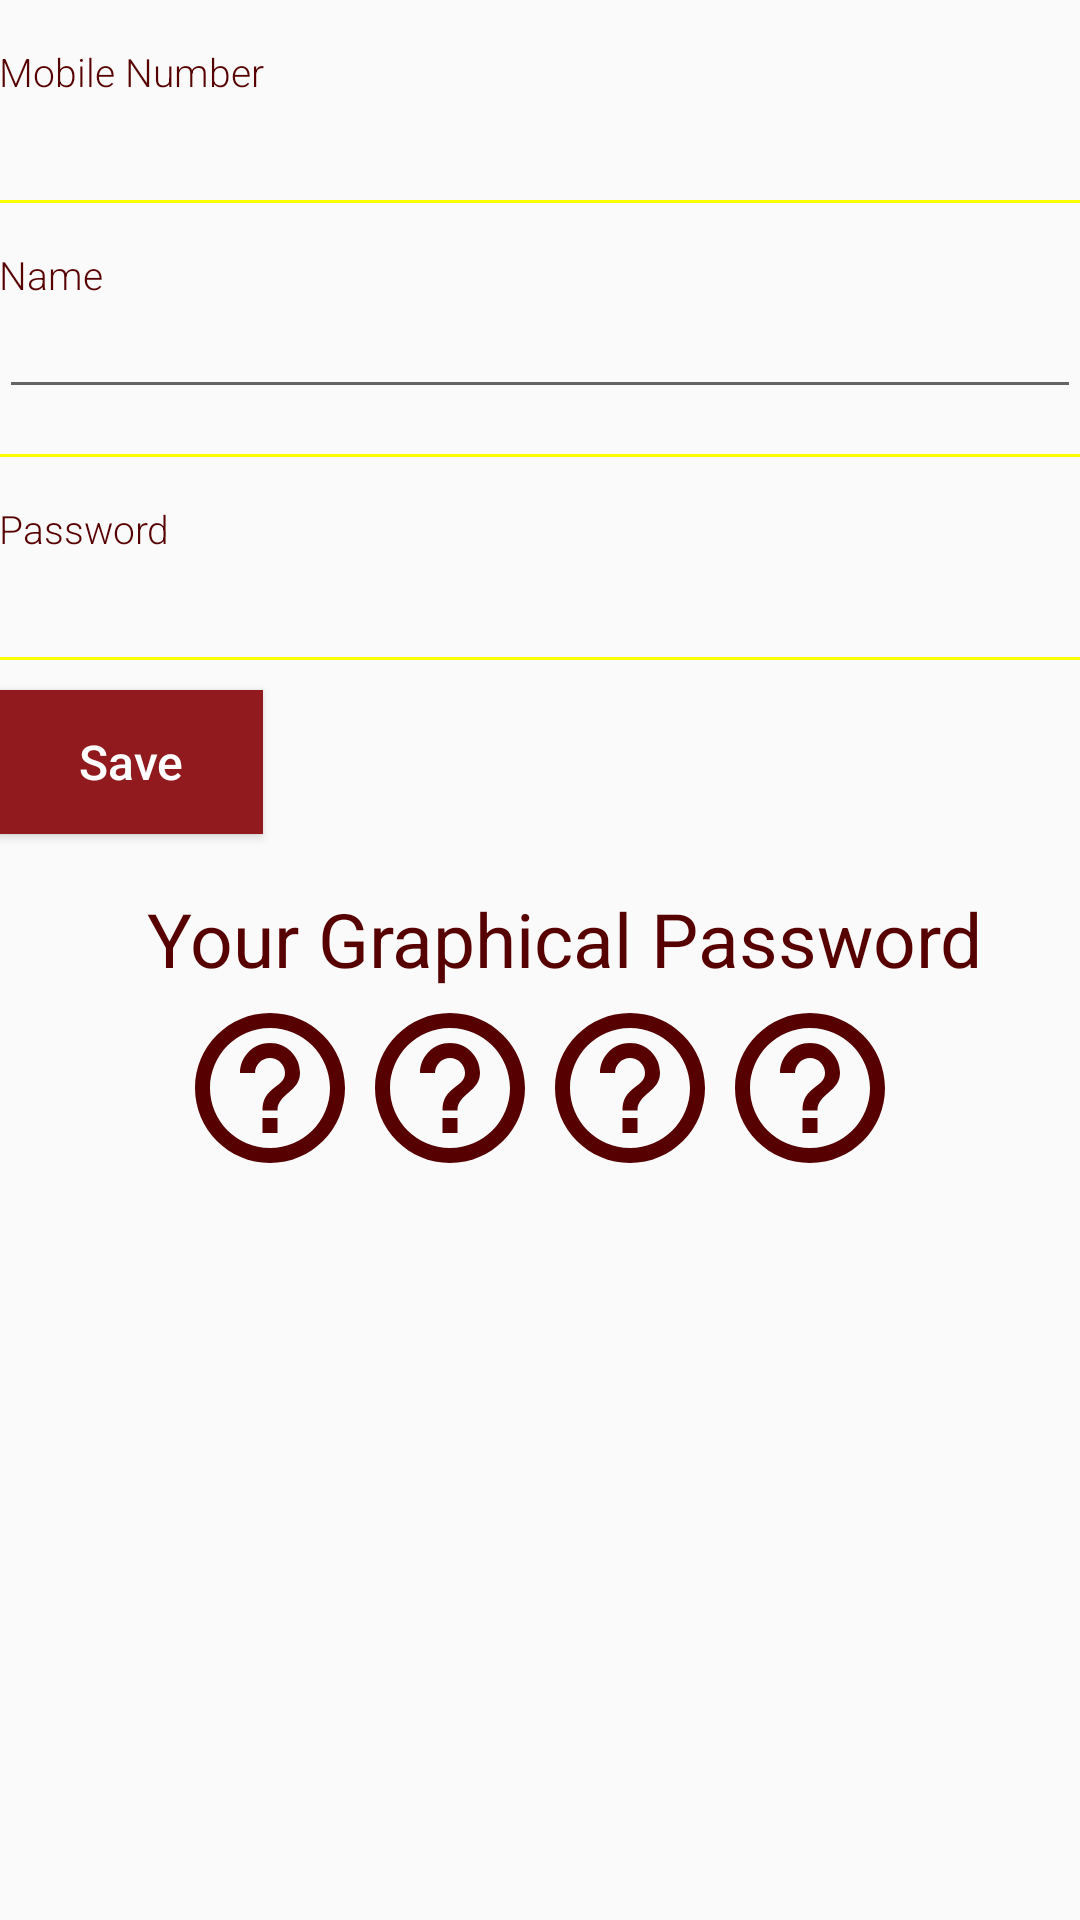

Icons on this 1080px x 1920px Android screen, each with its box as (x1, y1, x2, y2):
help: (195, 1013, 345, 1163), (375, 1013, 525, 1163), (555, 1013, 705, 1163), (735, 1013, 885, 1163)
